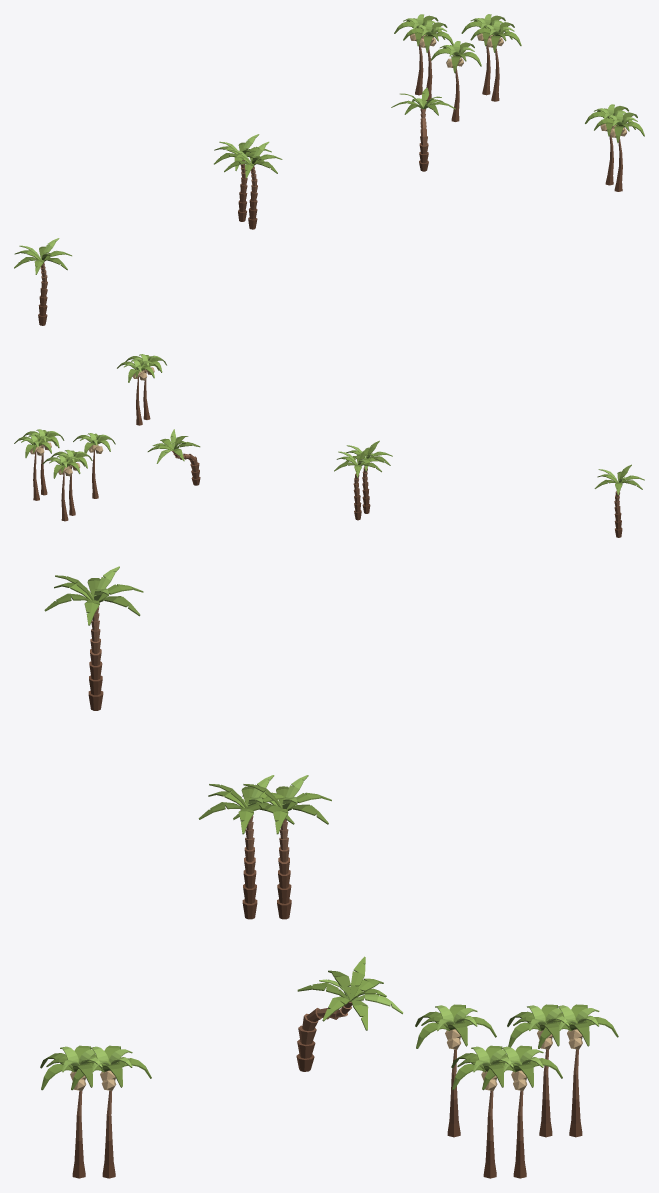
3 views of the same model, one above another, from view 1: azimuth 30°, elevation 25°; view 2: azimuth 150°, elevation 25°; view 3: azimuth 270°, elevation 25° (orthographic). The views are drawn at different scales.
Visible parts, largest first — view 1: palm_3.002, palm_3.004, palm_4, palm_3.003, palm_1.166, palm_1.168, palm_1.169, palm_1.164, palm_1.170, palm_1.167, palm_1.165; view 2: palm_4, palm_3.002, palm_3.003, palm_3.004, palm_1.167, palm_1.166, palm_1.165, palm_1.170, palm_1.169, palm_1.164, palm_1.168; view 3: palm_4, palm_3.002, palm_3.003, palm_3.004, palm_1.166, palm_1.169, palm_1.168, palm_1.164, palm_1.165, palm_1.170, palm_1.167.
Boxes of the visible parts, bbox=[...] form: palm_3.002: bbox=[14, 238, 71, 325]; palm_3.004: bbox=[224, 141, 282, 229]; palm_4: bbox=[391, 87, 455, 171]; palm_3.003: bbox=[214, 134, 271, 221]; palm_1.166: bbox=[430, 41, 481, 121]; palm_1.168: bbox=[470, 20, 521, 101]; palm_1.169: bbox=[594, 111, 644, 191]; palm_1.164: bbox=[403, 20, 453, 101]; palm_1.170: bbox=[585, 104, 635, 185]; palm_1.167: bbox=[461, 14, 512, 95]; palm_1.165: bbox=[394, 14, 445, 95]; palm_4: bbox=[147, 429, 200, 485]; palm_3.002: bbox=[594, 464, 644, 537]; palm_3.003: bbox=[334, 447, 384, 520]; palm_3.004: bbox=[345, 440, 392, 513]; palm_1.167: bbox=[14, 435, 56, 500]; palm_1.166: bbox=[73, 433, 115, 498]; palm_1.165: bbox=[42, 455, 84, 521]; palm_1.170: bbox=[117, 360, 159, 425]; palm_1.169: bbox=[125, 354, 166, 419]; palm_1.164: bbox=[51, 450, 92, 515]; palm_1.168: bbox=[23, 429, 64, 495]; palm_4: bbox=[296, 956, 403, 1071]; palm_3.002: bbox=[44, 566, 143, 710]; palm_3.003: bbox=[233, 775, 331, 919]; palm_3.004: bbox=[198, 775, 294, 919]; palm_1.166: bbox=[415, 1004, 496, 1137]; palm_1.169: bbox=[40, 1045, 110, 1178]; palm_1.168: bbox=[451, 1045, 521, 1178]; palm_1.164: bbox=[507, 1004, 577, 1137]; palm_1.165: bbox=[538, 1004, 618, 1137]; palm_1.170: bbox=[71, 1045, 151, 1178]; palm_1.167: bbox=[482, 1045, 562, 1178].
Bounding box in the file's own units: 54.02 × 6.64 × 26.08.
Materials: 11 (11 with a texture image).
